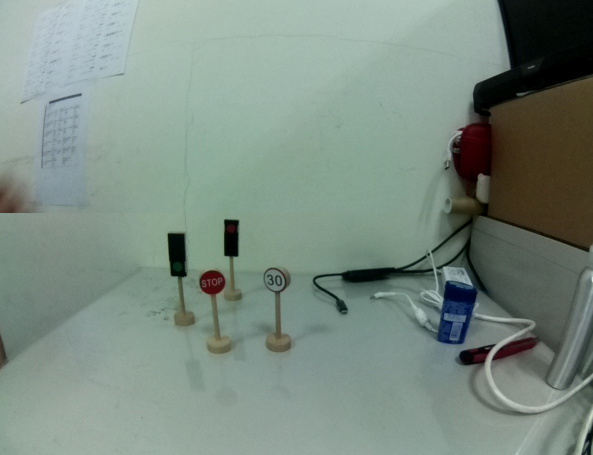Green: (167, 229, 188, 282)
Red: (222, 217, 241, 260)
Speed30: (261, 264, 293, 296)
Stop: (198, 267, 228, 296)
